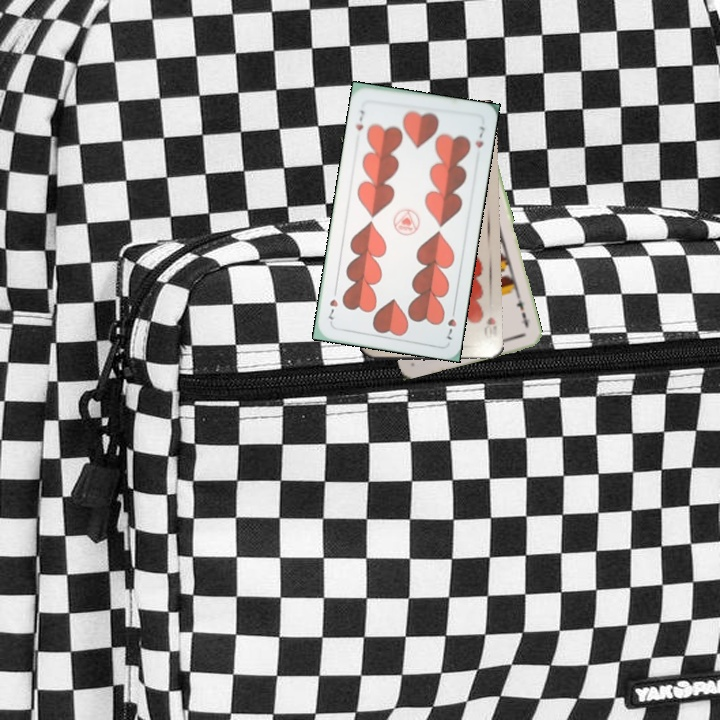E7: (512, 293, 532, 330)
H10: (480, 313, 499, 342)
H7: (443, 303, 459, 343), (352, 106, 367, 133)
